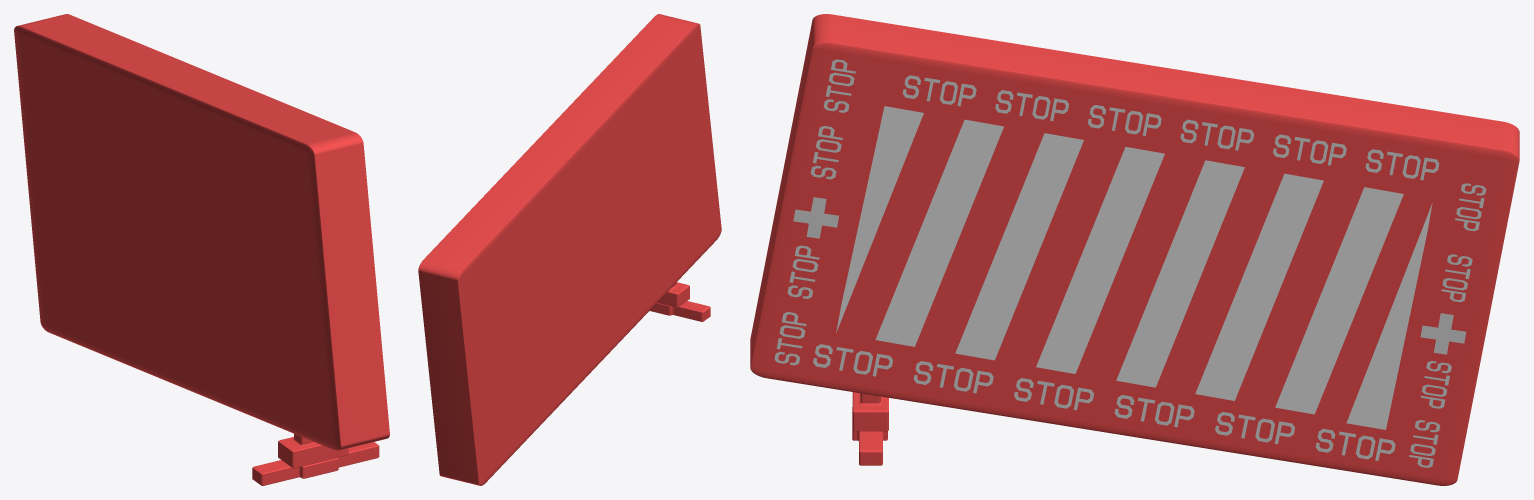
Rendered from stop_1_leg.fbx.
3 views of the same model, side by side, from view 1: azimuth 30°, elevation 25°; view 2: azimuth 150°, elevation 25°; view 3: azimuth 270°, elevation 25° (orthographic). The views are drawn at different scales.
Parts seen in each view (by area): view 1: Cube.002, Cube.003; view 2: Cube.002, Cube.003; view 3: Cube.002, Plane, Text.019, Text.020, Text.012, Text.015, Text.016, Text.011, Text.009, Text.007, Text.006, Text.008 (+3 smaller).
Part boxes in pixels (x1,y1,x2,y2): Cube.002: (14, 14, 389, 450); Cube.003: (252, 434, 379, 485); Cube.002: (418, 14, 721, 485); Cube.003: (649, 282, 710, 321); Cube.002: (750, 14, 1519, 485); Plane: (835, 104, 1404, 421); Text.019: (1195, 173, 1323, 400); Text.020: (1275, 187, 1403, 414); Text.012: (955, 133, 1083, 360); Text.015: (1116, 160, 1244, 387); Text.016: (1036, 146, 1164, 373); Text.011: (875, 119, 1003, 346); Text.009: (813, 344, 1395, 460); Text.007: (1346, 203, 1432, 429); Text.006: (836, 106, 923, 332); Text.008: (902, 75, 1439, 180).
Bounding box in the file's own units: 86.74 × 265 × 416.
